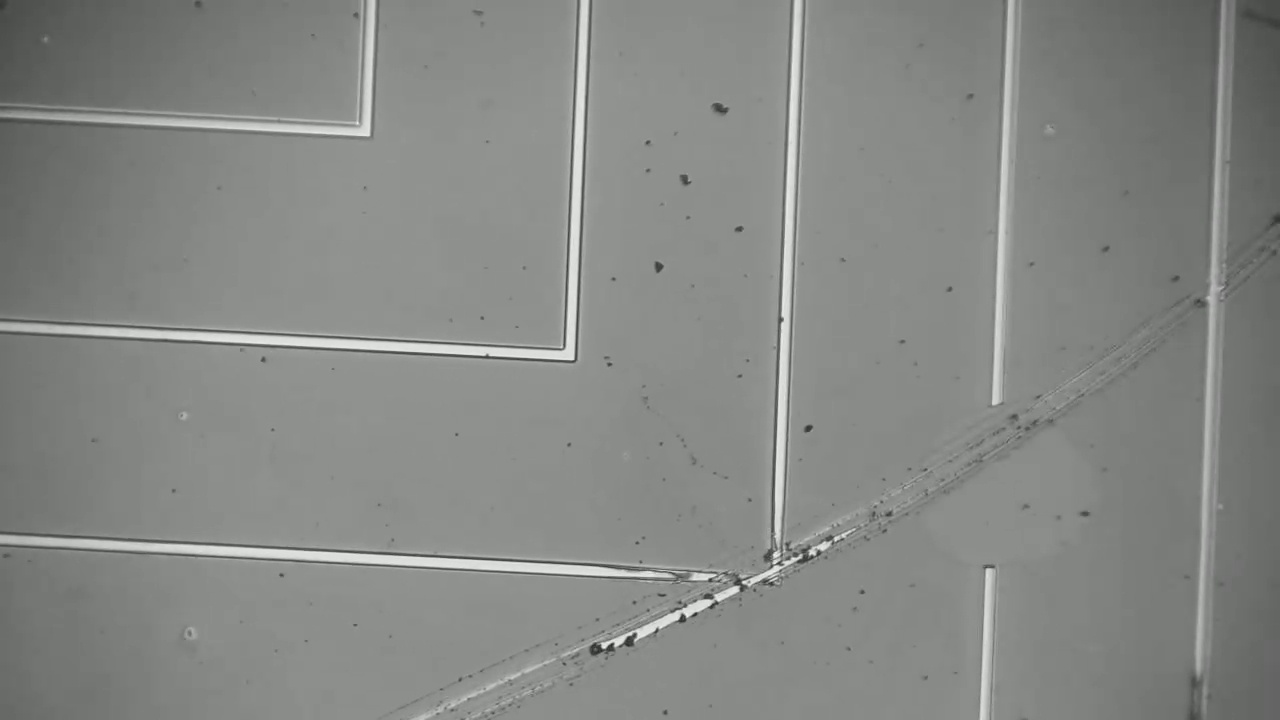gray_line: (1175, 648, 1223, 720)
open: (950, 360, 1029, 610)
scratch: (846, 231, 1279, 551), (364, 581, 764, 720)
